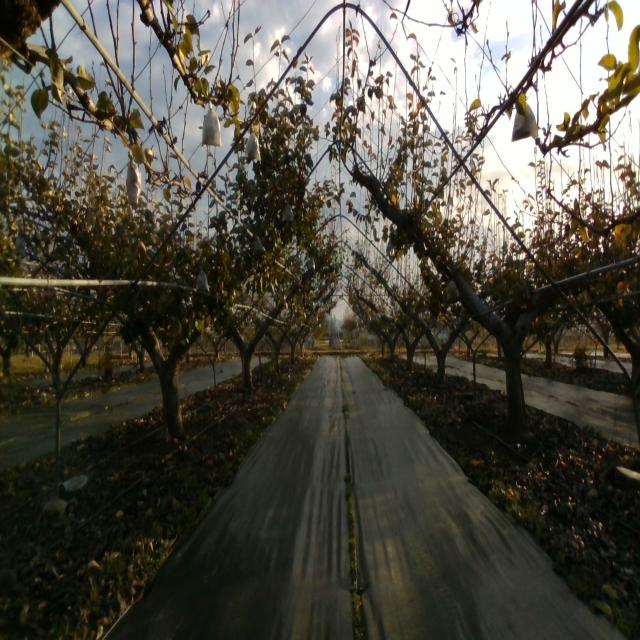pearbags: (511, 103, 539, 142), (201, 100, 222, 148), (126, 148, 142, 206), (195, 266, 211, 293), (251, 234, 266, 261), (446, 278, 461, 303), (281, 199, 294, 222)
